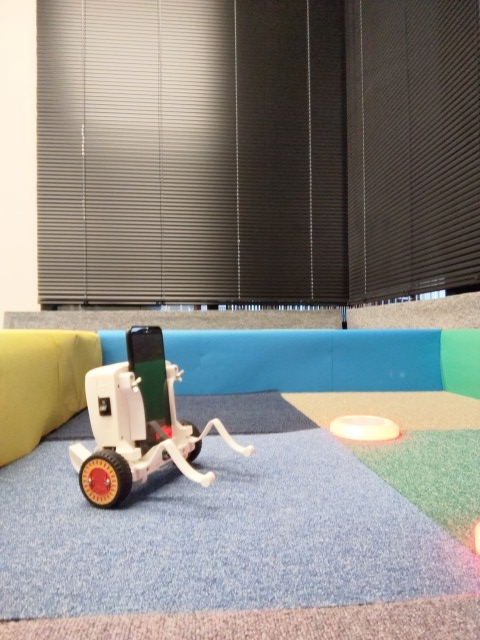br: (65, 321, 255, 511)
r: (327, 411, 400, 443)
